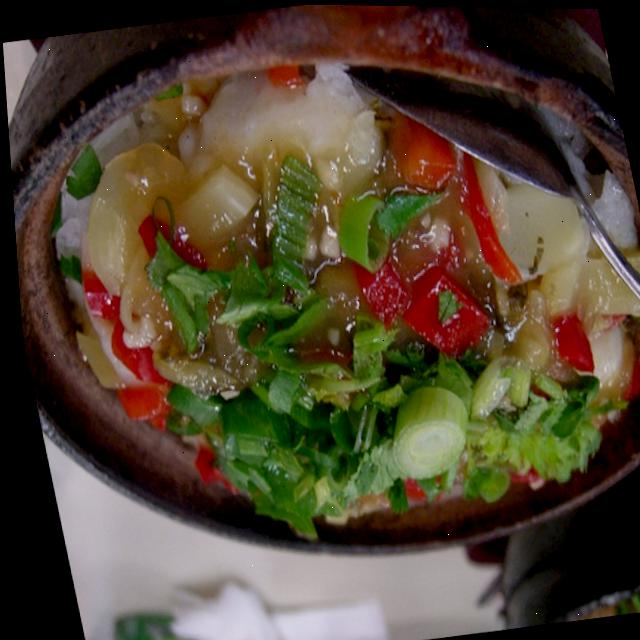汤锅炖物: (1, 11, 640, 624)
